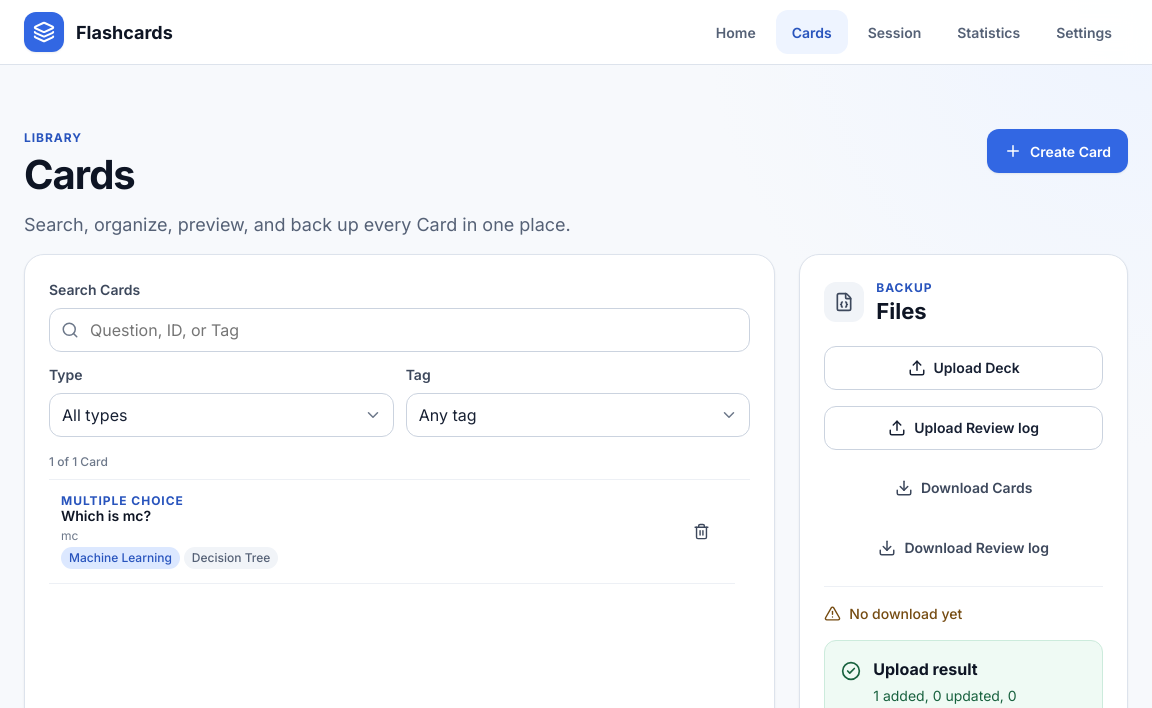
shows right or wrong after a click on an option (multiple_choice, right)
This screenshot has width=1152, height=708.
Earlier steps of the test are not shown.
Click the button "Home" at (736, 32), box [700,10,772,54]
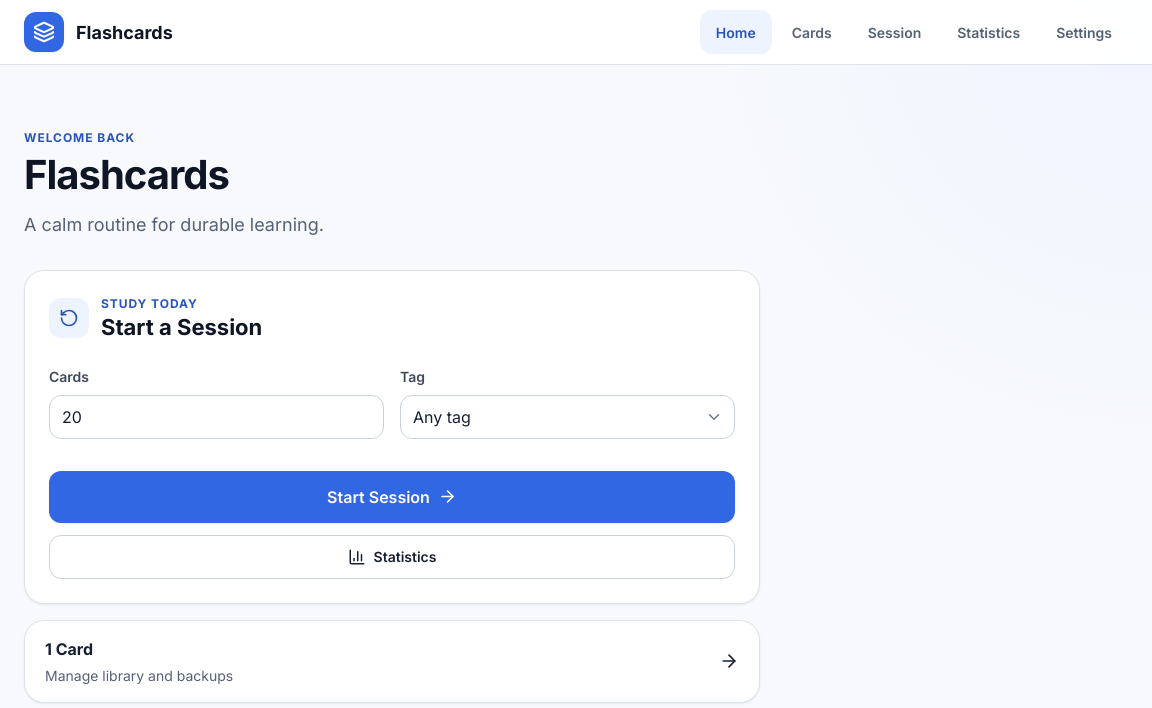
Click the button "Start Session" at (392, 497), box [49,471,735,523]
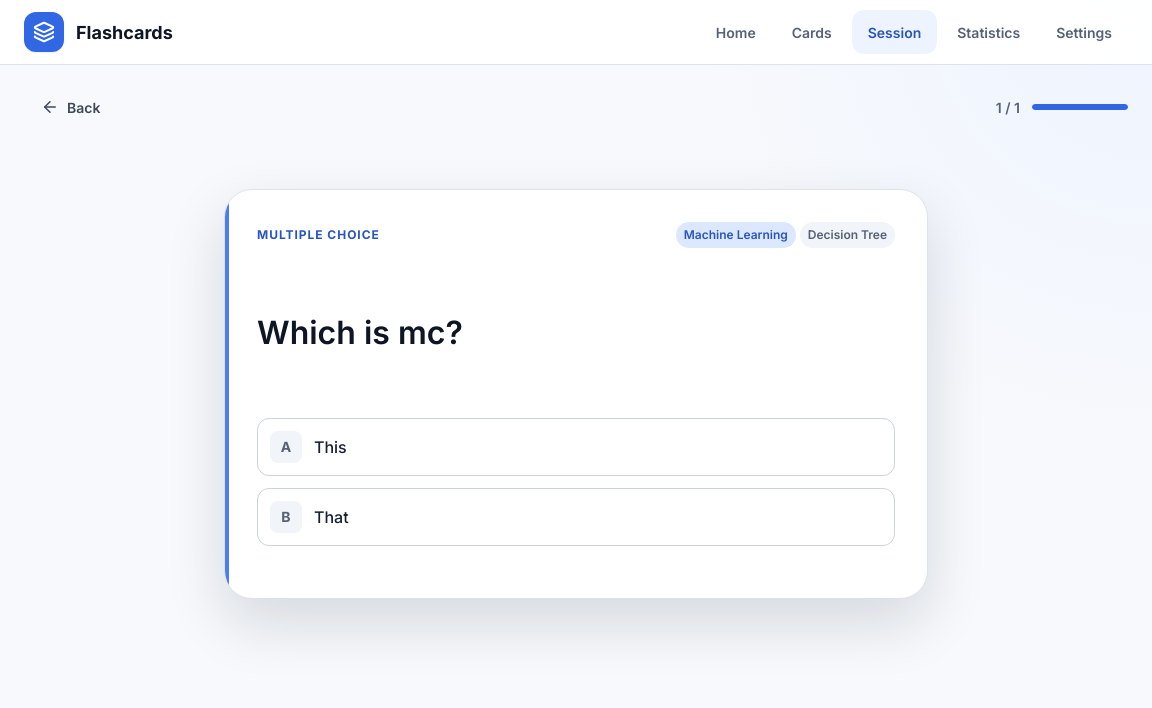
Expected: the text "This one." is not shown
Result: the heading "Which is mc?" is shown at [257,313,463,352]
Click the button "A This" at (286, 447), box [257,418,895,476]
(page scrolled)
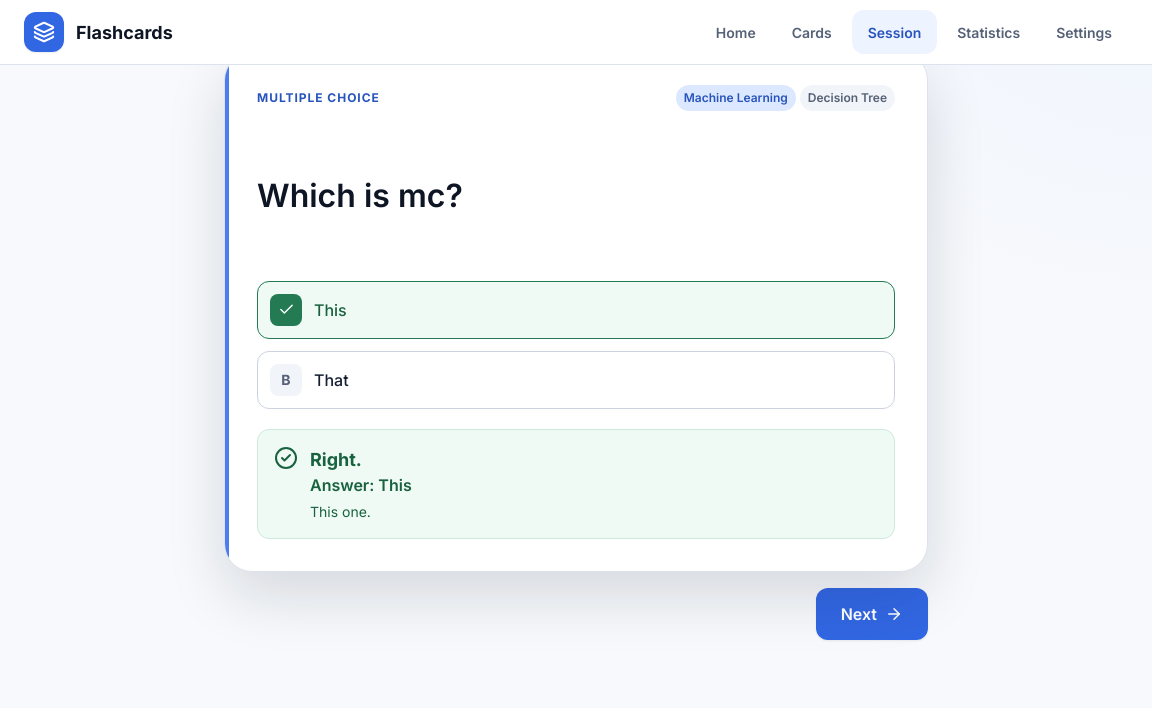
Result: the text "Right." is shown at [310,449,362,470]
Result: the text "This one." is shown at [310,503,371,520]
Result: the button "This" is disabled at [257,281,895,339]
Click the button "Next" at (872, 614), box [816,588,928,640]
(page scrolled)
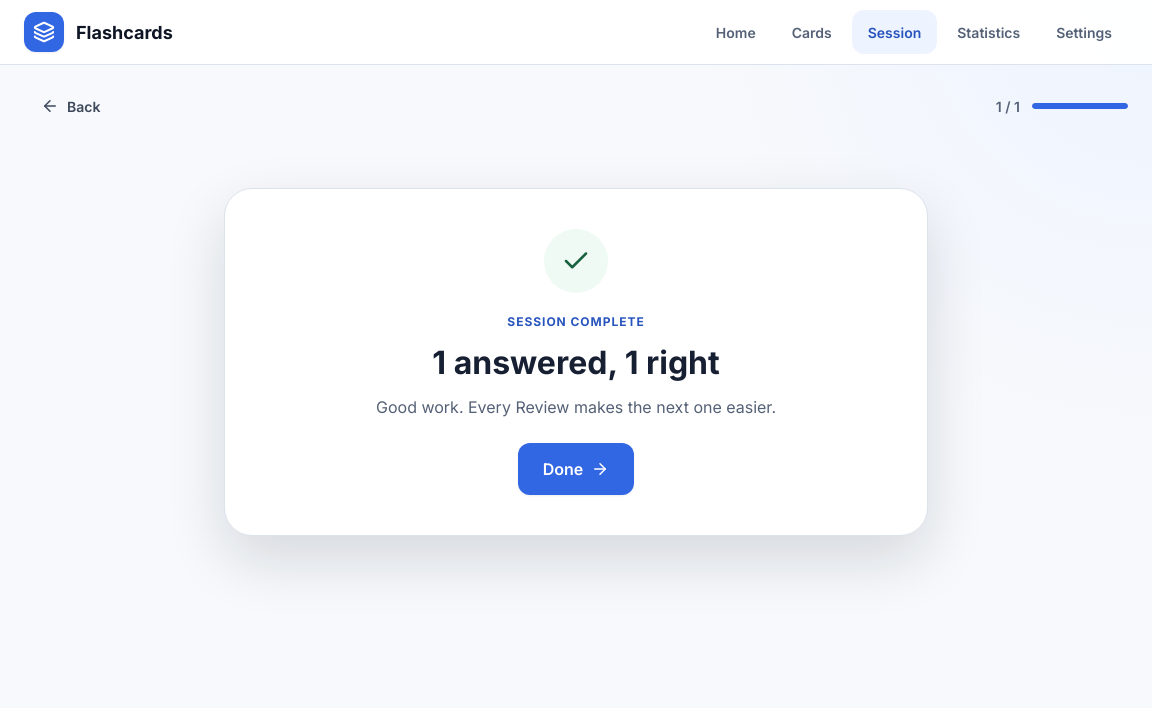
Result: the heading "1 answered, 1 right" is shown at [432,343,720,382]
